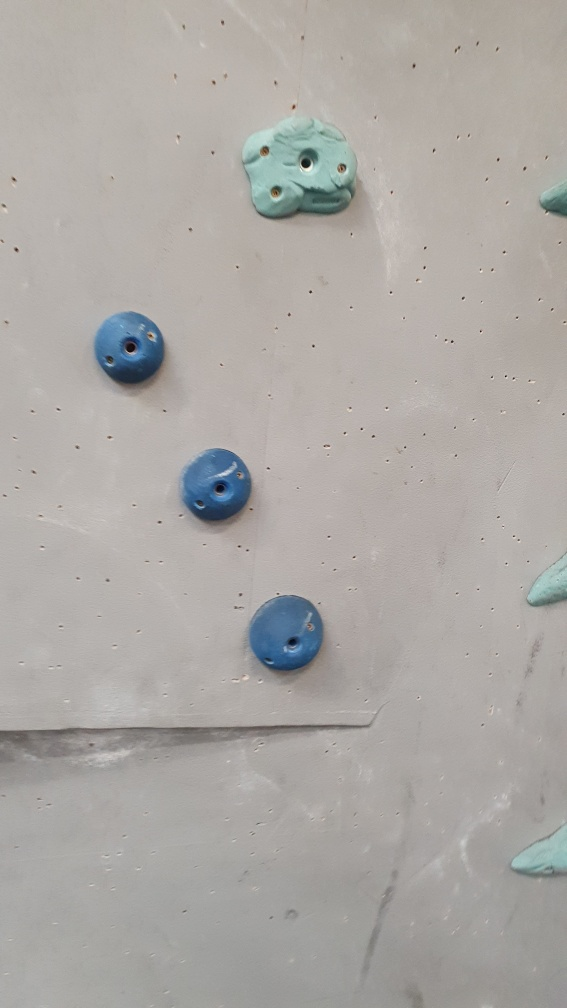Sloper: (243, 586, 337, 679), (86, 306, 179, 390), (175, 441, 261, 524)
